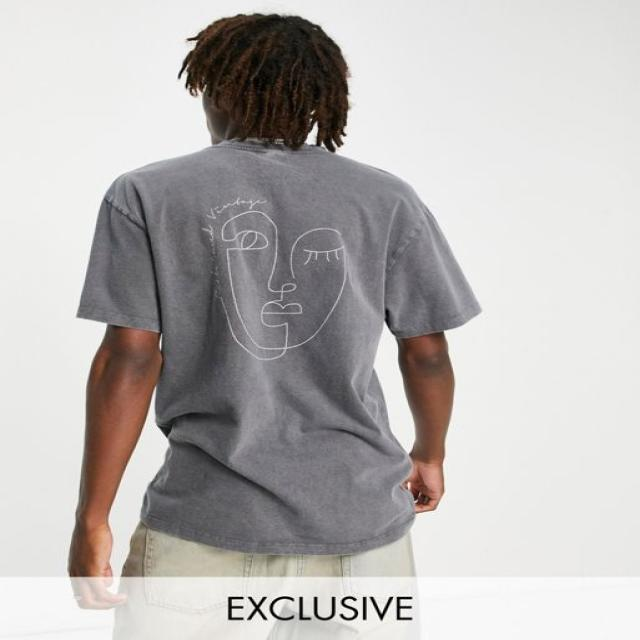tshirt: (75, 139, 481, 553)
